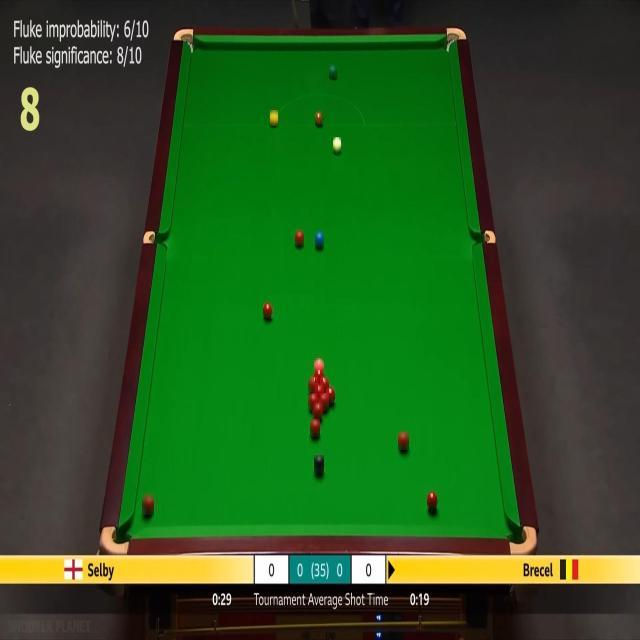Ball: (426, 492, 438, 512), (142, 495, 154, 515), (398, 432, 409, 450), (318, 394, 329, 412), (310, 418, 320, 437), (314, 456, 324, 474), (308, 393, 318, 411), (264, 302, 274, 319), (325, 387, 335, 404), (312, 403, 322, 419), (295, 230, 304, 247), (308, 377, 318, 392), (314, 369, 324, 384), (315, 232, 324, 248), (314, 384, 324, 398), (319, 378, 329, 391), (333, 138, 341, 154), (270, 110, 278, 126), (314, 358, 324, 370), (330, 64, 338, 78), (316, 111, 324, 125)
